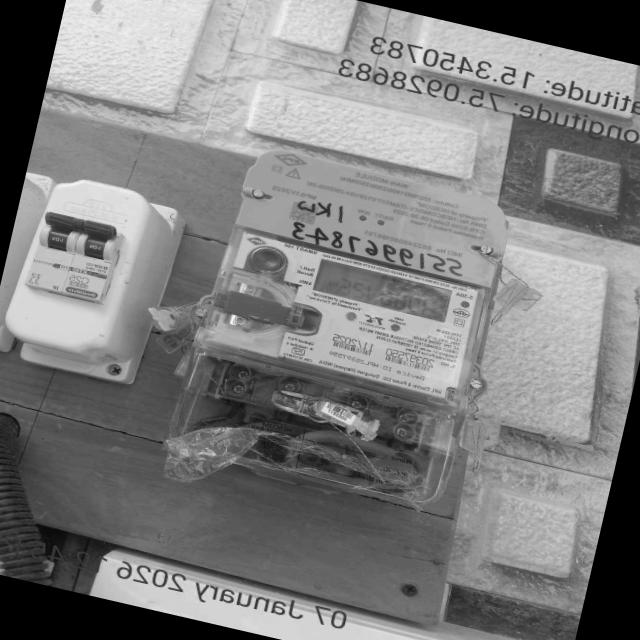meter: (201, 230, 482, 400)
